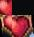heart: (12, 15, 34, 37), (0, 0, 12, 15)
